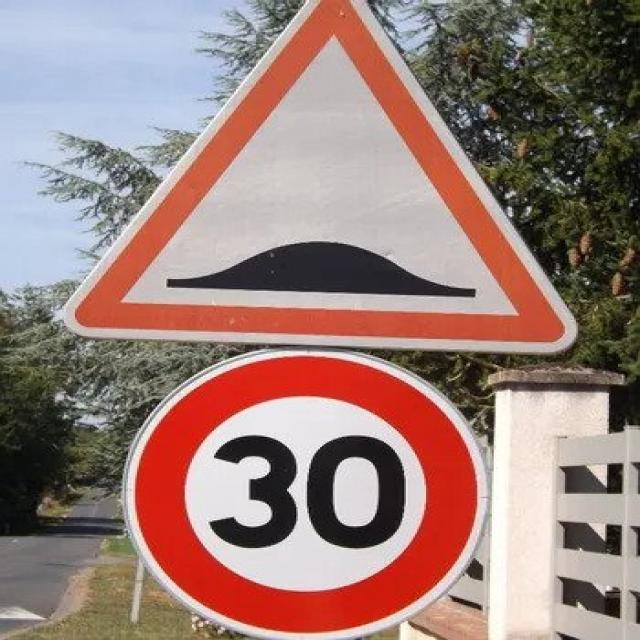hump: (57, 0, 596, 355)
